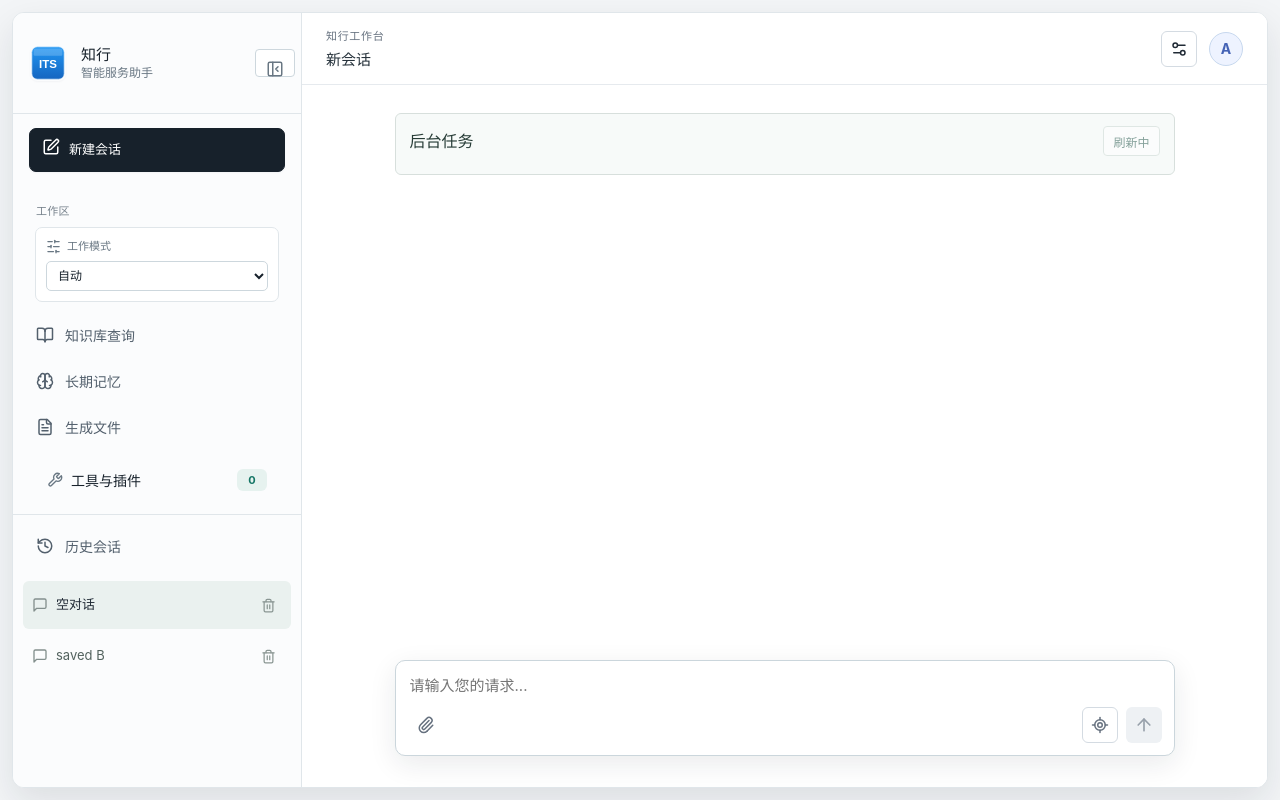
Test: chat request lifecycle › allows custom model setup even when no saved models are returned
Click the button with class "model-config-button" at x=1179, y=48, box 1161,30 -> 1197,66
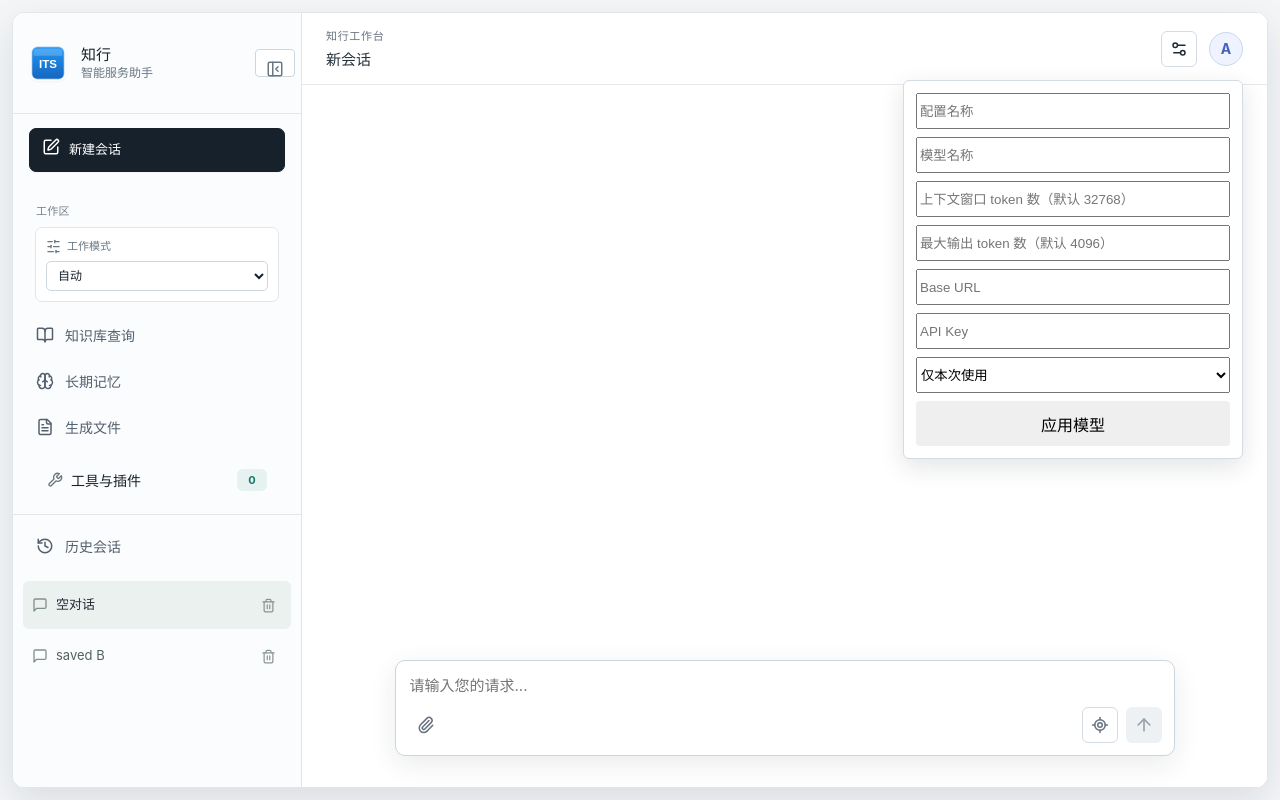
Expected: the password field with placeholder "API Key" is shown, 916,313 -> 1230,349
